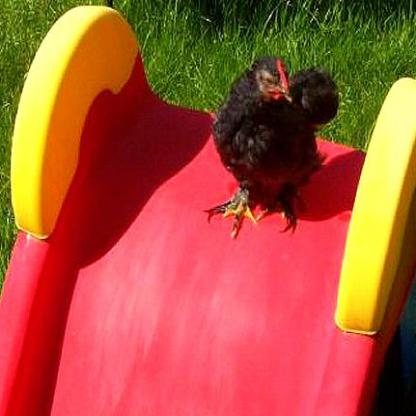bird: (206, 52, 338, 238)
